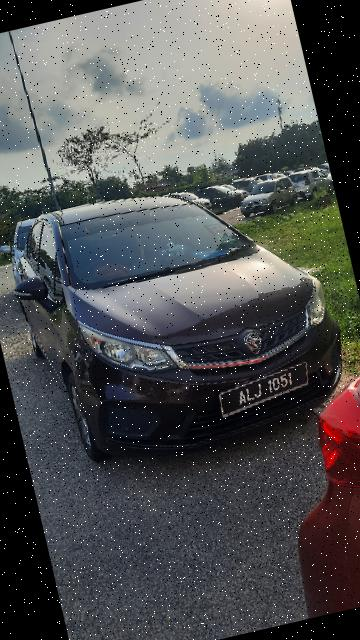License_Plate: (211, 356, 323, 423)
car: (1, 150, 360, 482)
